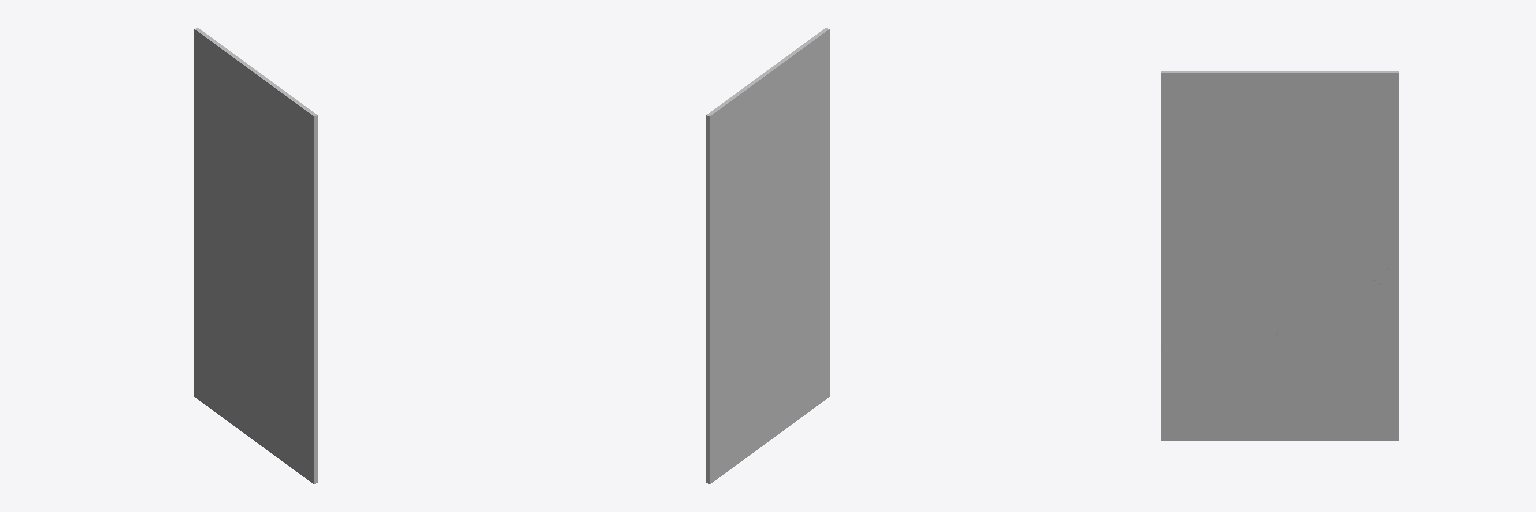
3 renders of one model, left to right at view 1: azimuth 30°, elevation 25°; view 2: azimuth 150°, elevation 25°; view 3: azimuth 270°, elevation 25°, orthographic.
Parts seen in each view (by area): view 1: back5_zoetrope.258; view 2: back5_zoetrope.258; view 3: back5_zoetrope.258.
Boxes of the visible parts, x1,y1,x2,y2 form: back5_zoetrope.258: [194, 28, 317, 483]; back5_zoetrope.258: [706, 28, 829, 483]; back5_zoetrope.258: [1161, 71, 1398, 440].
Size of the model in its own units: 0.0109 by 0.9246 by 0.5439.